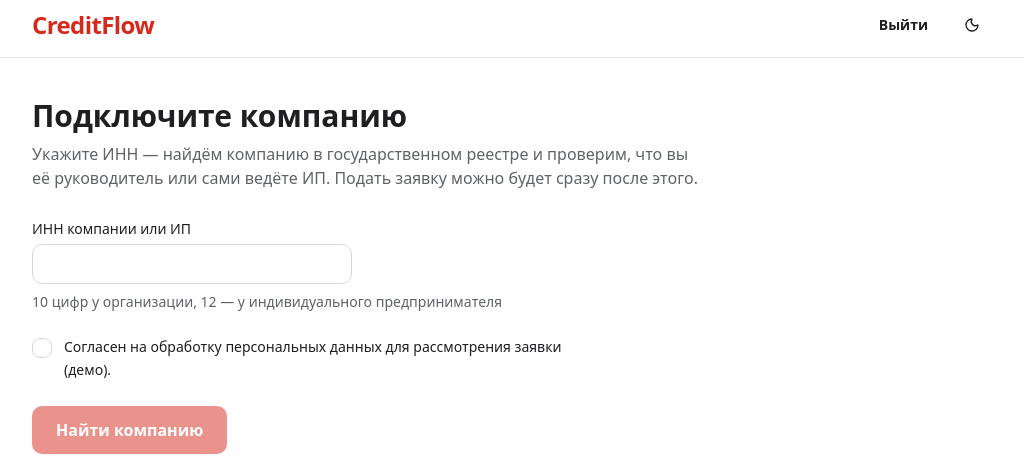
привязка компании › в поле ИНН остаются только цифры
This screenshot has width=1024, height=471.
Expected: the heading "Подключите компанию" is shown, [32,95,407,136]
In the field labelled "ИНН компании или ИП": [192, 264] box [32,244,352,284], type "0099 020-010"
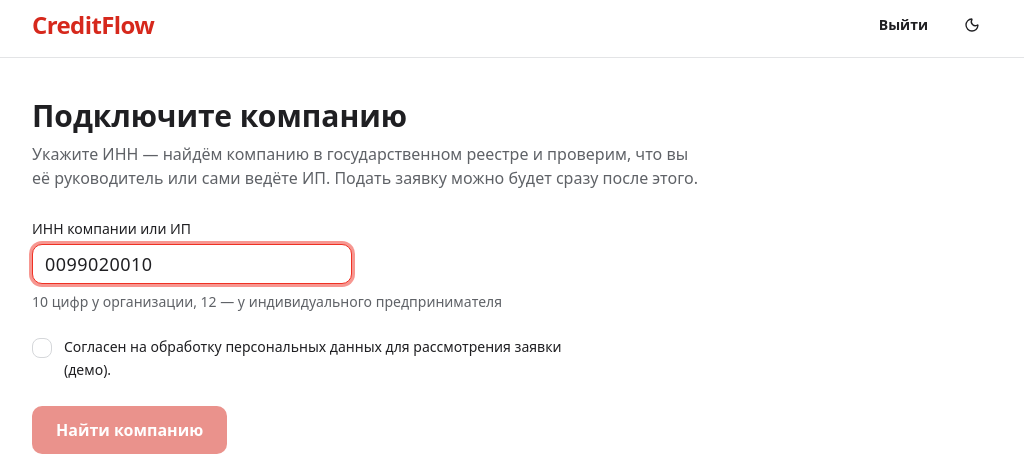
Result: the field labelled "ИНН компании или ИП" holds "0099020010" at [32,244,352,284]
